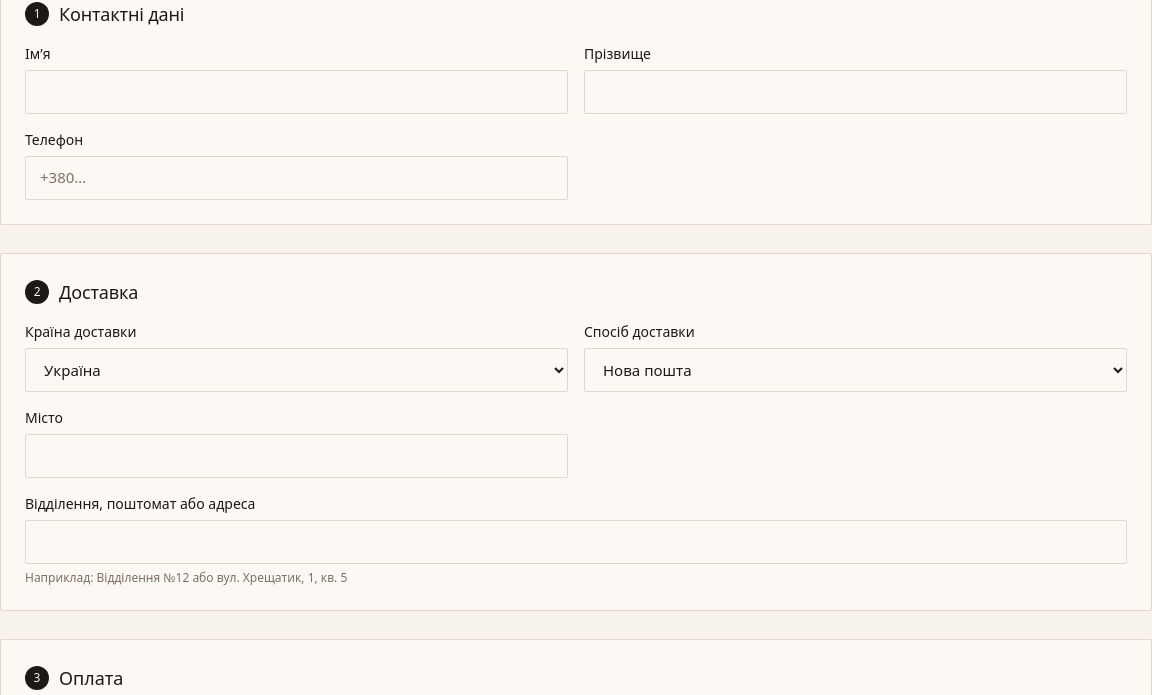
Test: CheckoutForm › abroad › blocks submission without a postal code
The image size is (1152, 695).
Step 1. Type "  Олена " into the field labelled "Ім’я" → (296, 92), box [25,70,568,114]
Step 2. Type "Коваль" into the field labelled "Прізвище" → (856, 92), box [584,70,1127,114]
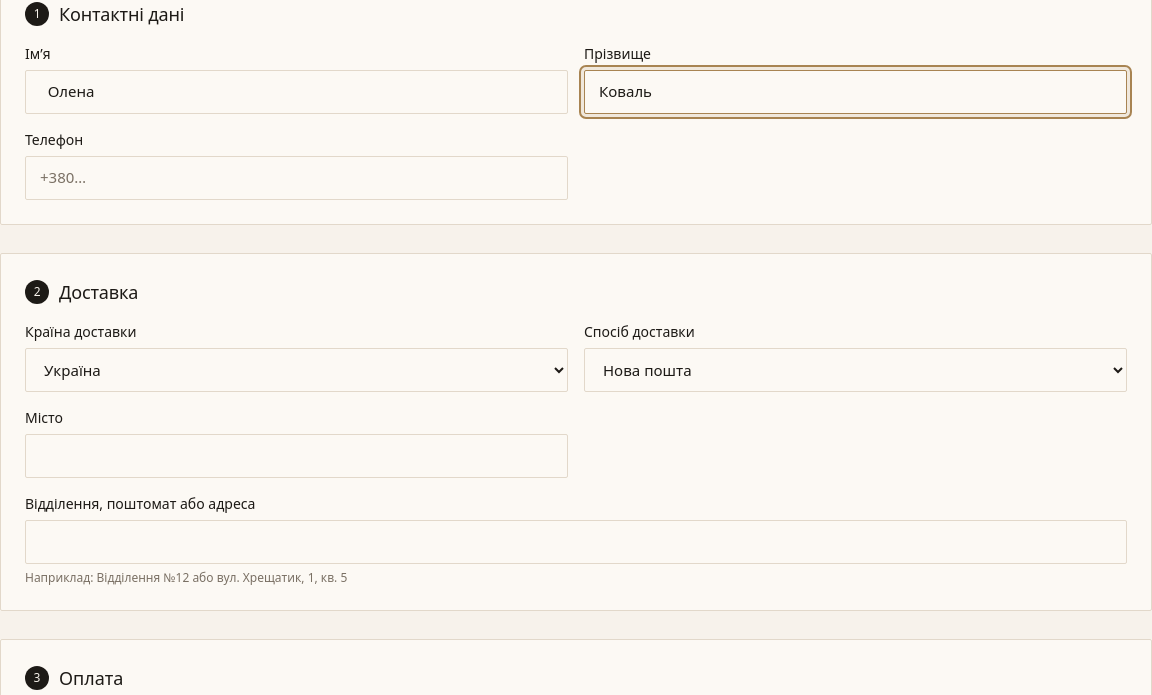
Step 3. Type "+380971234567" into the field labelled "Телефон" → (296, 178), box [25,156,568,200]
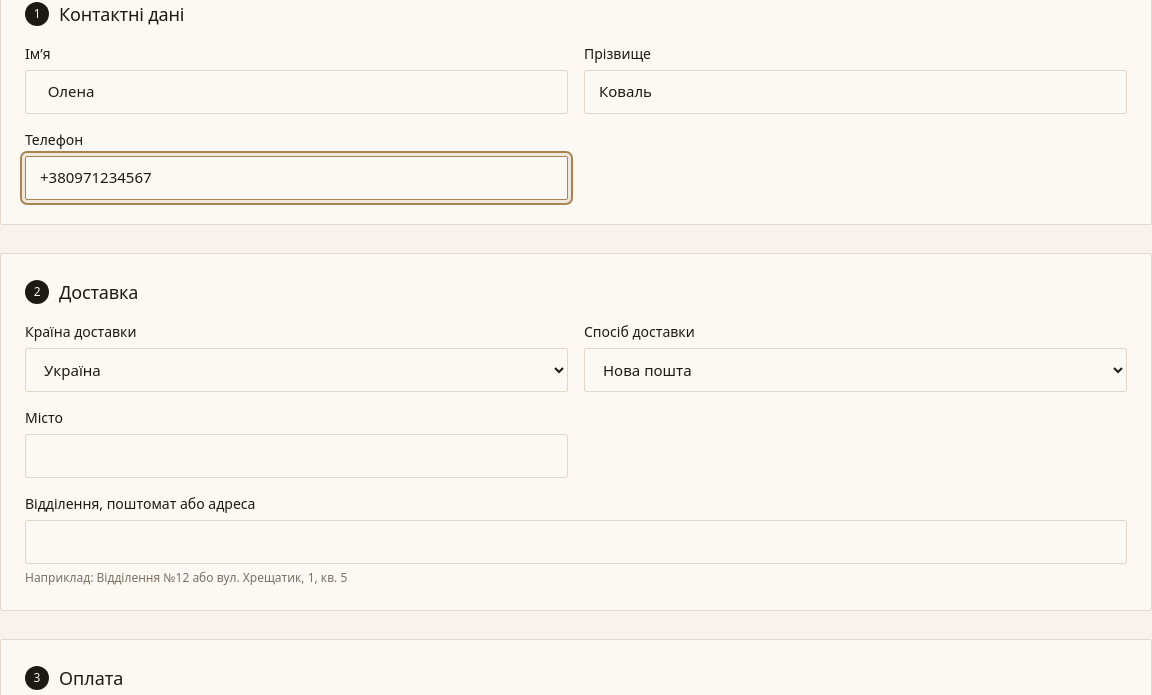
Step 4. Type "Київ" into the field labelled "Місто" → (296, 456), box [25,434,568,478]
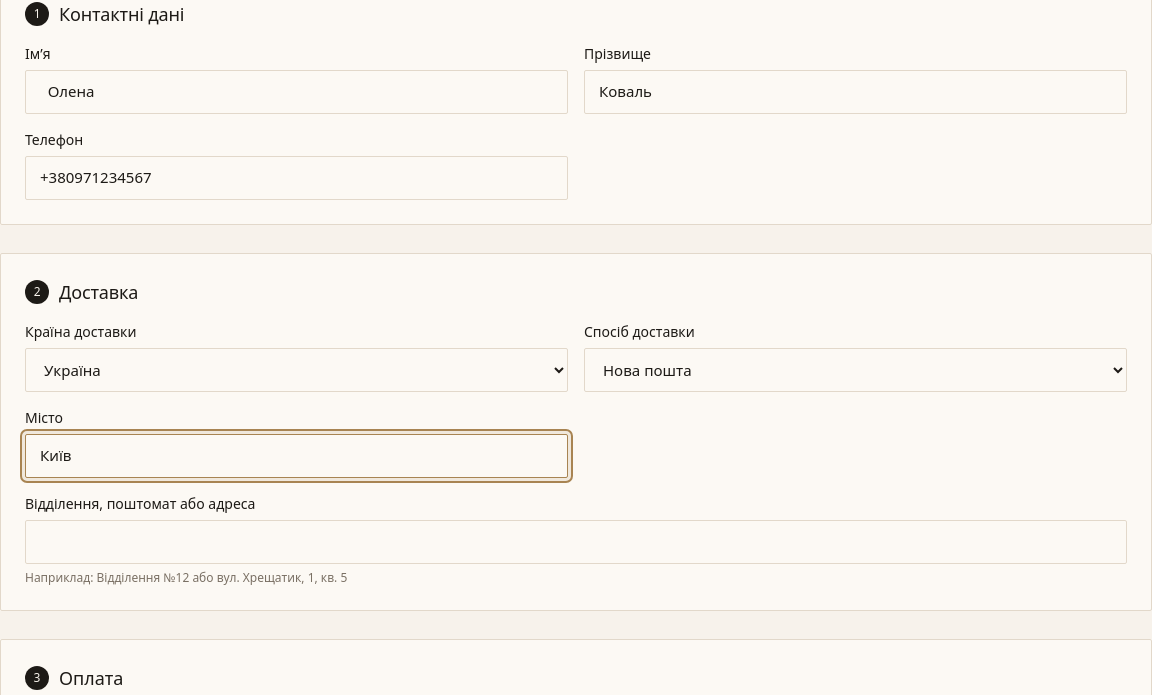
Step 5. Type "Відділення №12" into the field labelled "Відділення, поштомат або адреса" → (576, 542), box [25,520,1127,564]
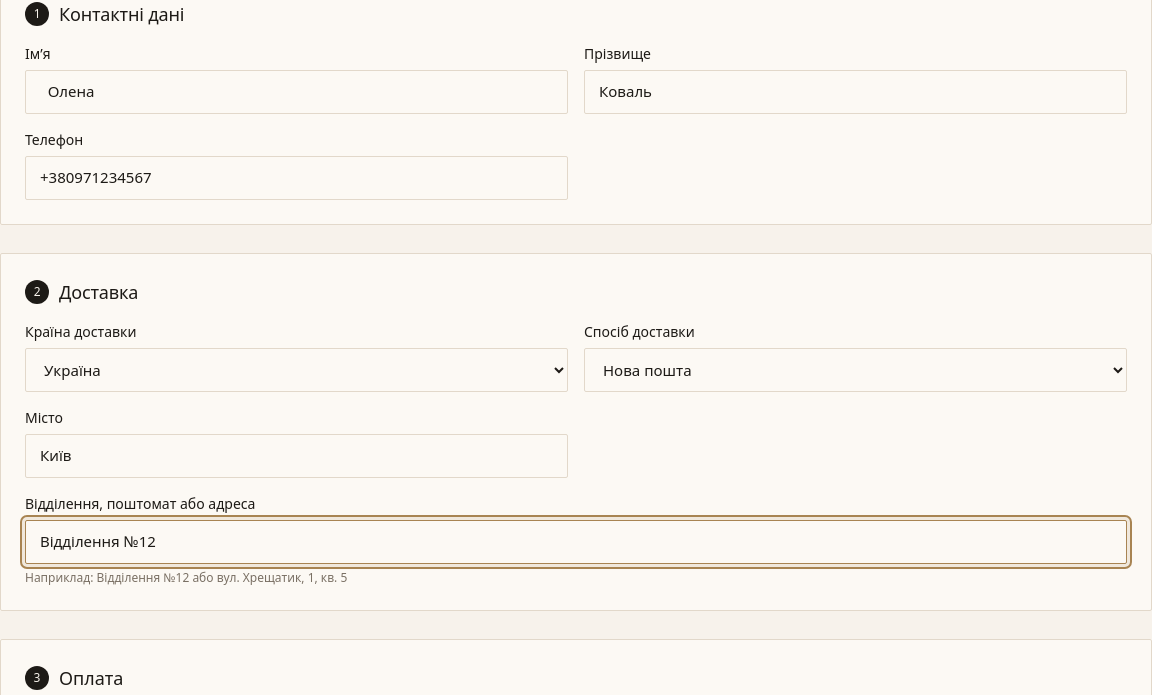
Step 6. Select "PL" in the dropdown labelled "Країна доставки" → (296, 370), box [25,348,568,392]
(page scrolled)
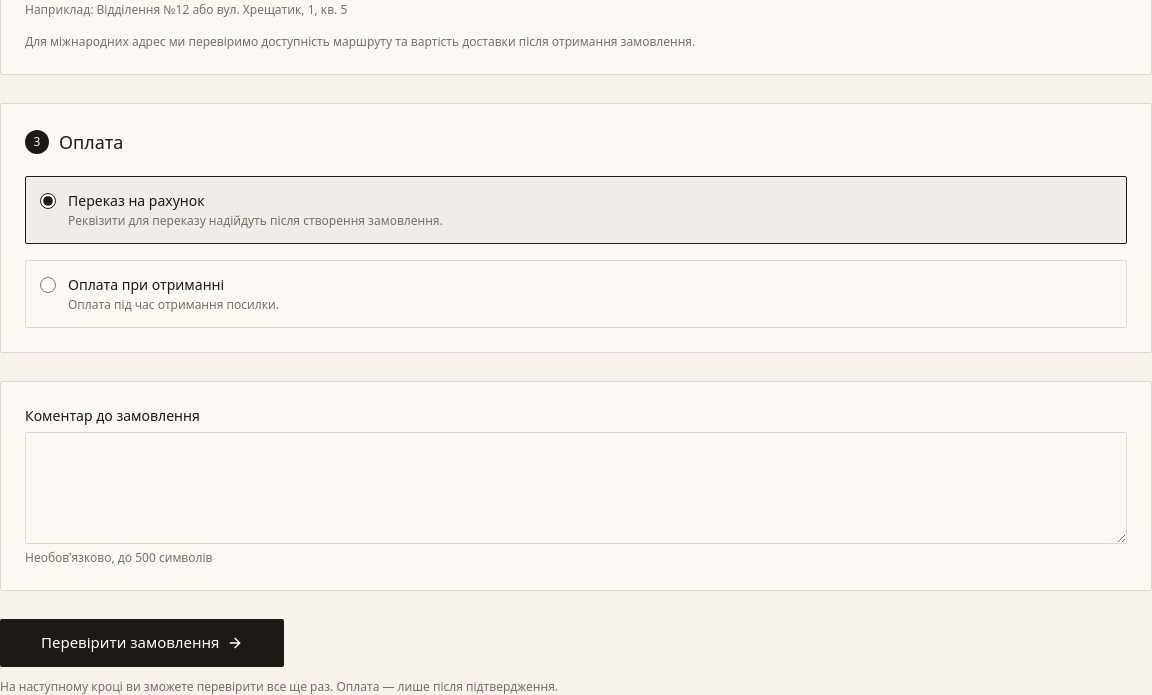
Step 7. Click the button "Перевірити замовлення" → (142, 643), box [0,619,284,667]
(page scrolled)
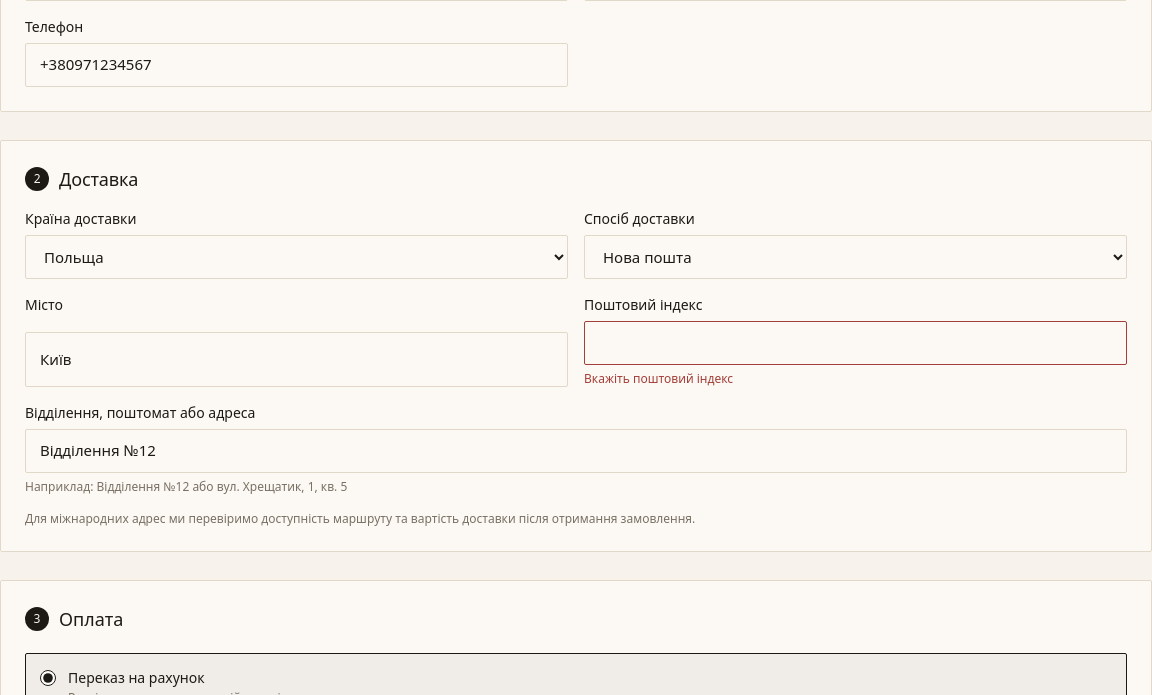
Now the text "Вкажіть поштовий індекс" is shown, box [584,370,733,387]
